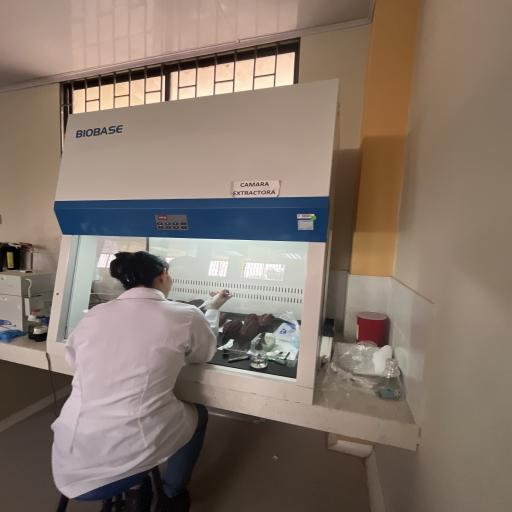Camara_Extractora_Biobase: (40, 71, 363, 418)
